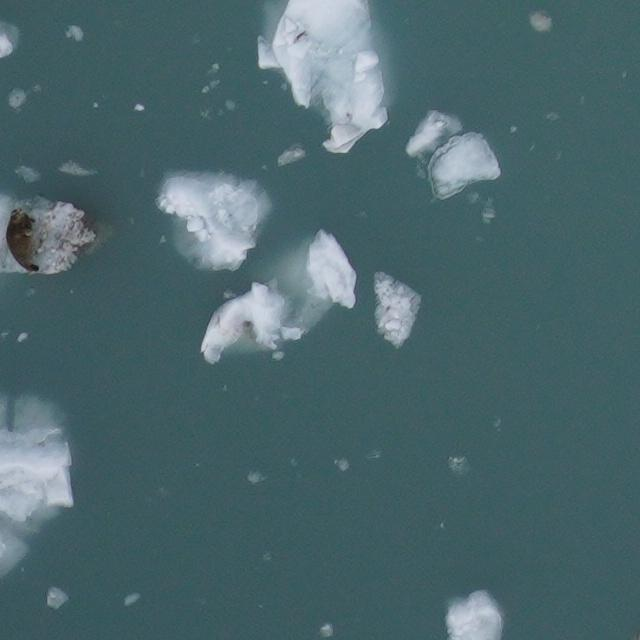seal: (3, 204, 42, 276)
